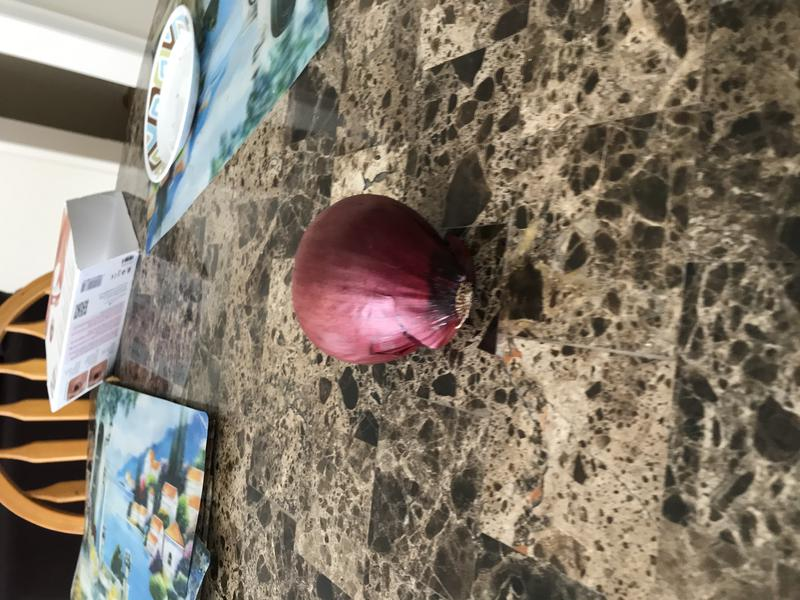purple_onion: (284, 187, 481, 372)
